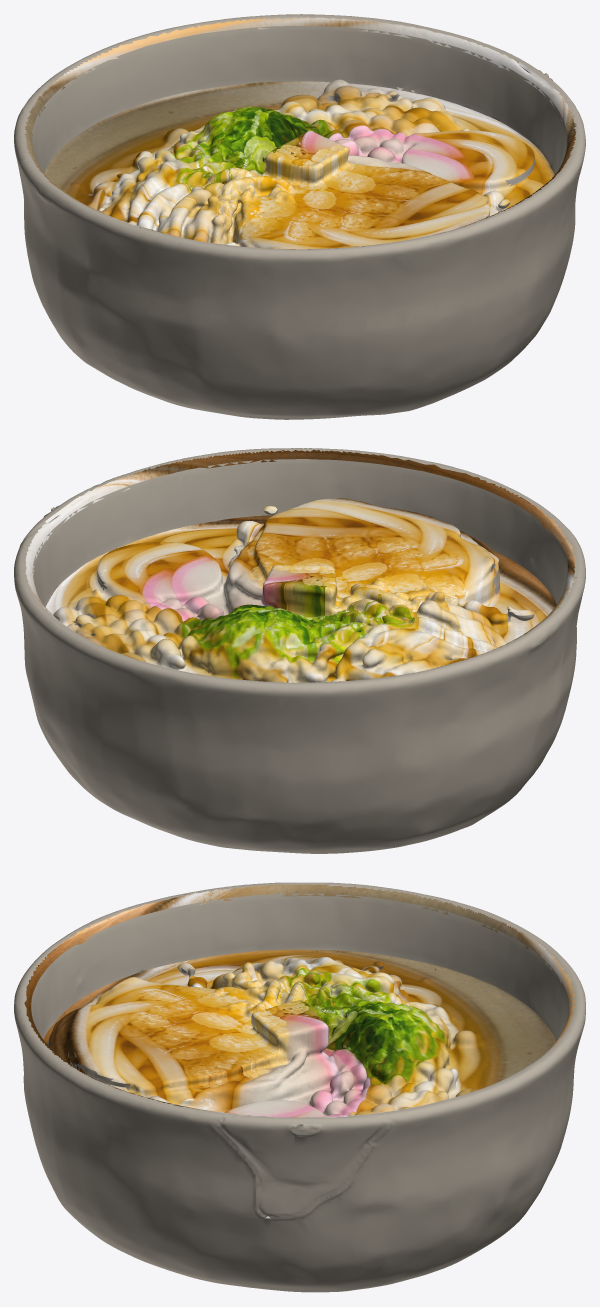
The model's file is udon.glb.
3 renders of one model, top to bottom at view 1: azimuth 30°, elevation 25°; view 2: azimuth 150°, elevation 25°; view 3: azimuth 270°, elevation 25°, orthographic.
Parts seen in each view (by area): view 1: geometry_0; view 2: geometry_0; view 3: geometry_0.
Part boxes in pixels (x1,y1,x2,y2): geometry_0: (14, 14, 585, 419); geometry_0: (14, 448, 585, 853); geometry_0: (14, 882, 585, 1292).
Size of the model in its own units: 1.97 by 0.8017 by 1.96.
Materials: 2 (1 with a texture image).
